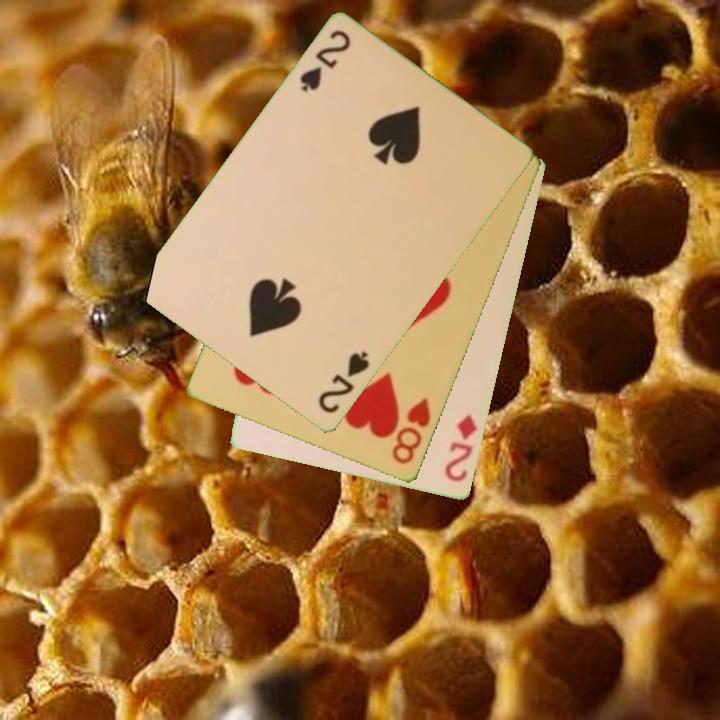2d: (441, 411, 481, 485)
2s: (314, 348, 373, 418), (296, 27, 354, 96)
8h: (388, 394, 434, 468)
